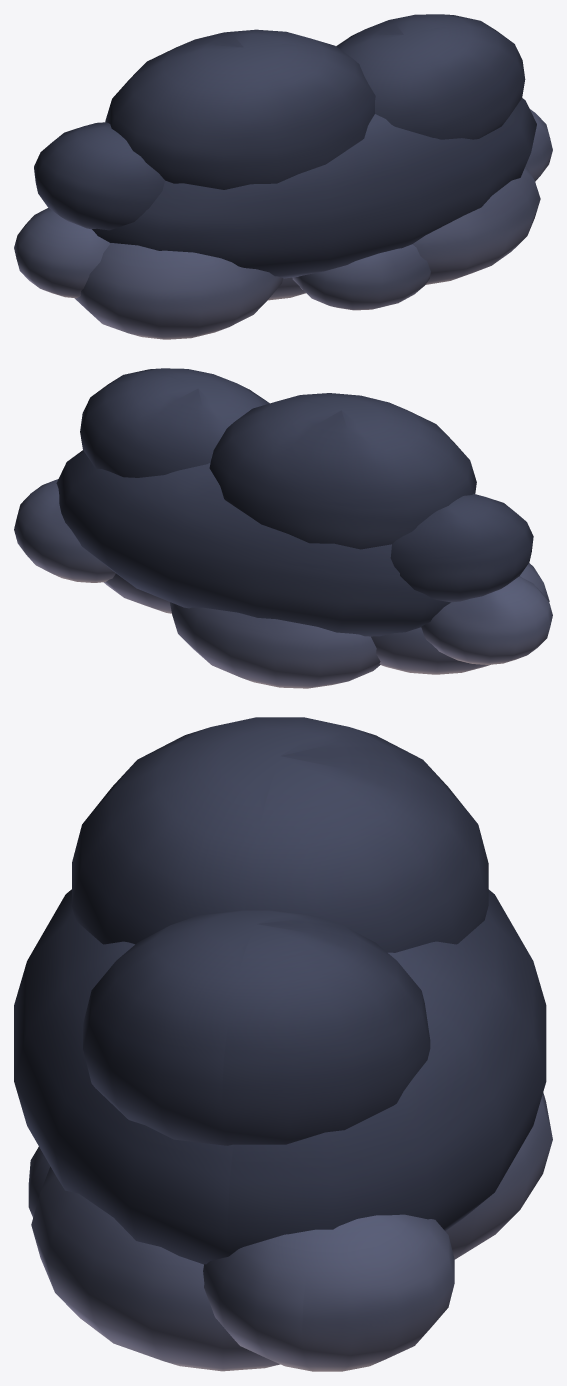
Rendered from zack_cloud_a.glb.
3 views of the same model, one above another, from view 1: azimuth 30°, elevation 25°; view 2: azimuth 150°, elevation 25°; view 3: azimuth 270°, elevation 25° (orthographic). The views are drawn at different scales.
Parts seen in each view (by area): view 1: mass; view 2: mass; view 3: mass.
Boxes of the visible parts, bbox=[...] form: mass: bbox=[14, 14, 552, 339]; mass: bbox=[14, 368, 552, 688]; mass: bbox=[14, 717, 552, 1371].
Size of the model in its own units: 4.57 by 2.16 by 2.28.
1 material, 1 textured.
